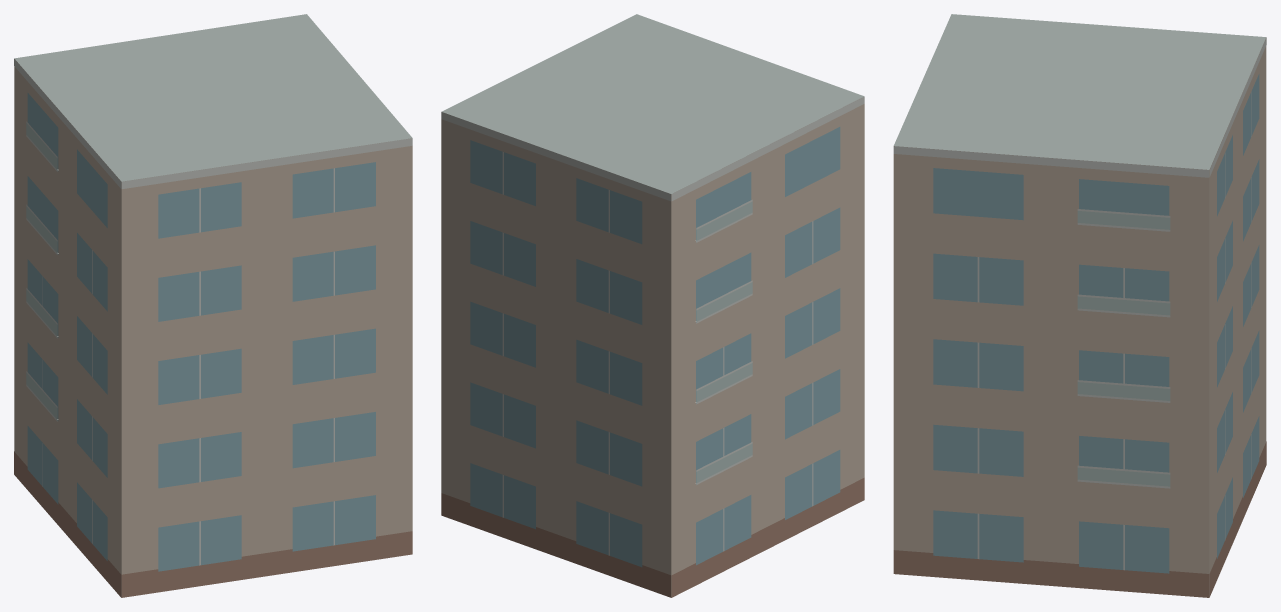
The model's file is survey-upis-32528686.glb.
3 views of the same model, side by side, from view 1: azimuth 30°, elevation 25°; view 2: azimuth 150°, elevation 25°; view 3: azimuth 270°, elevation 25° (orthographic). The views are drawn at different scales.
Parts seen in each view (by area): view 1: survey-upis-32528686.tmp; view 2: survey-upis-32528686.tmp; view 3: survey-upis-32528686.tmp.
Part boxes in pixels (box(x1,y1,x2,y2)): survey-upis-32528686.tmp: box(14, 14, 412, 597); survey-upis-32528686.tmp: box(441, 14, 864, 597); survey-upis-32528686.tmp: box(893, 14, 1266, 597).
Size of the model in its own units: 10.4 by 13.3 by 10.51.
